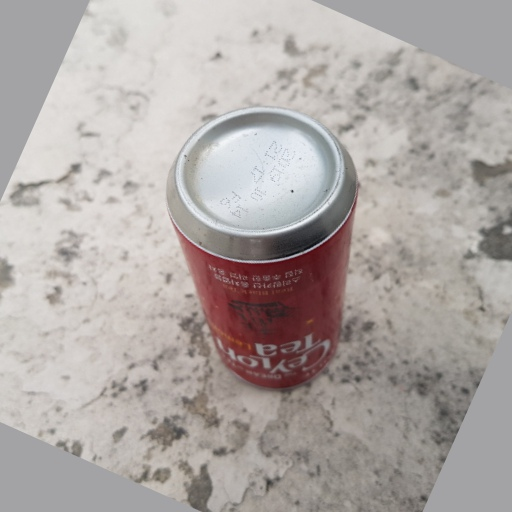Metal_0: (162, 105, 361, 392)
